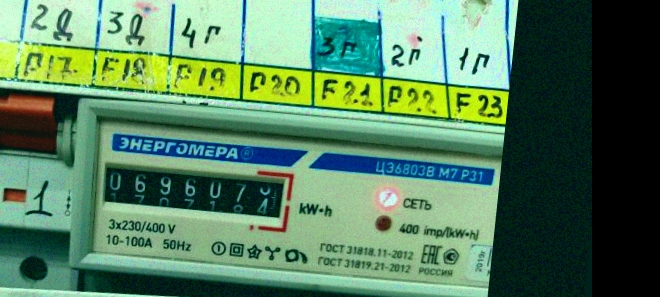0: (206, 176, 223, 200), (106, 169, 122, 191)
4: (254, 195, 269, 217)
6: (131, 171, 147, 193), (181, 176, 197, 197)
7: (231, 181, 248, 203)
9: (156, 173, 171, 195)
screen: (87, 150, 298, 230)
